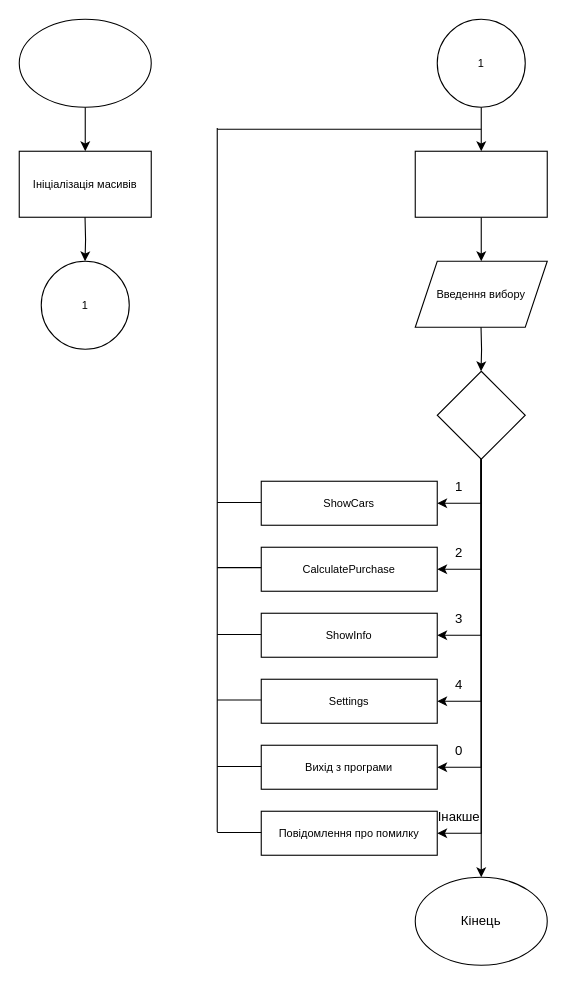
This 567x985 diagram has some shape labels left out. The centre of each missing label's shape, as x and y in pixels:
Вивести меню: (480,183)
Початок: (84,62)
Умова switch: (480,414)
